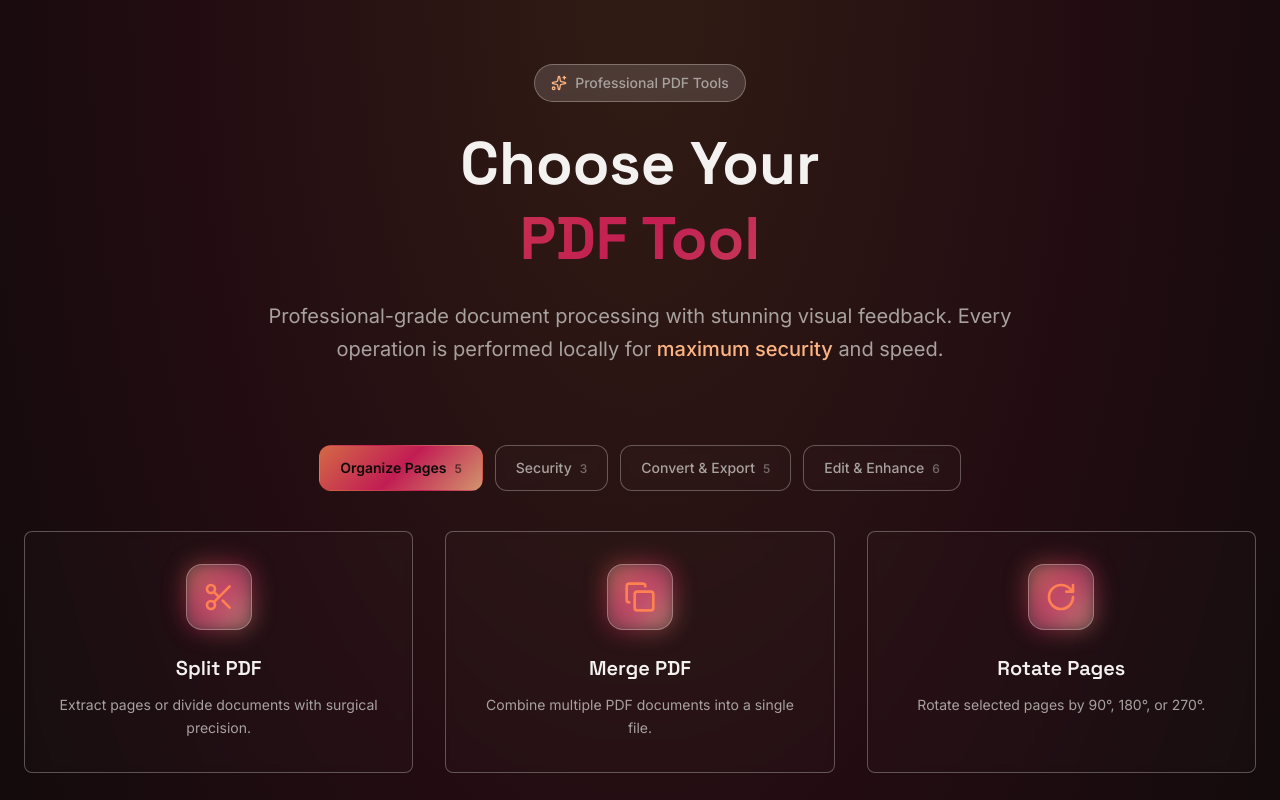
GlassDashboard (T-11 / P2-23 / F-23) › returns to the grid via Back to Tools
The image size is (1280, 800).
Click the button "Split PDF" at (219, 597), box [24,531,413,772]
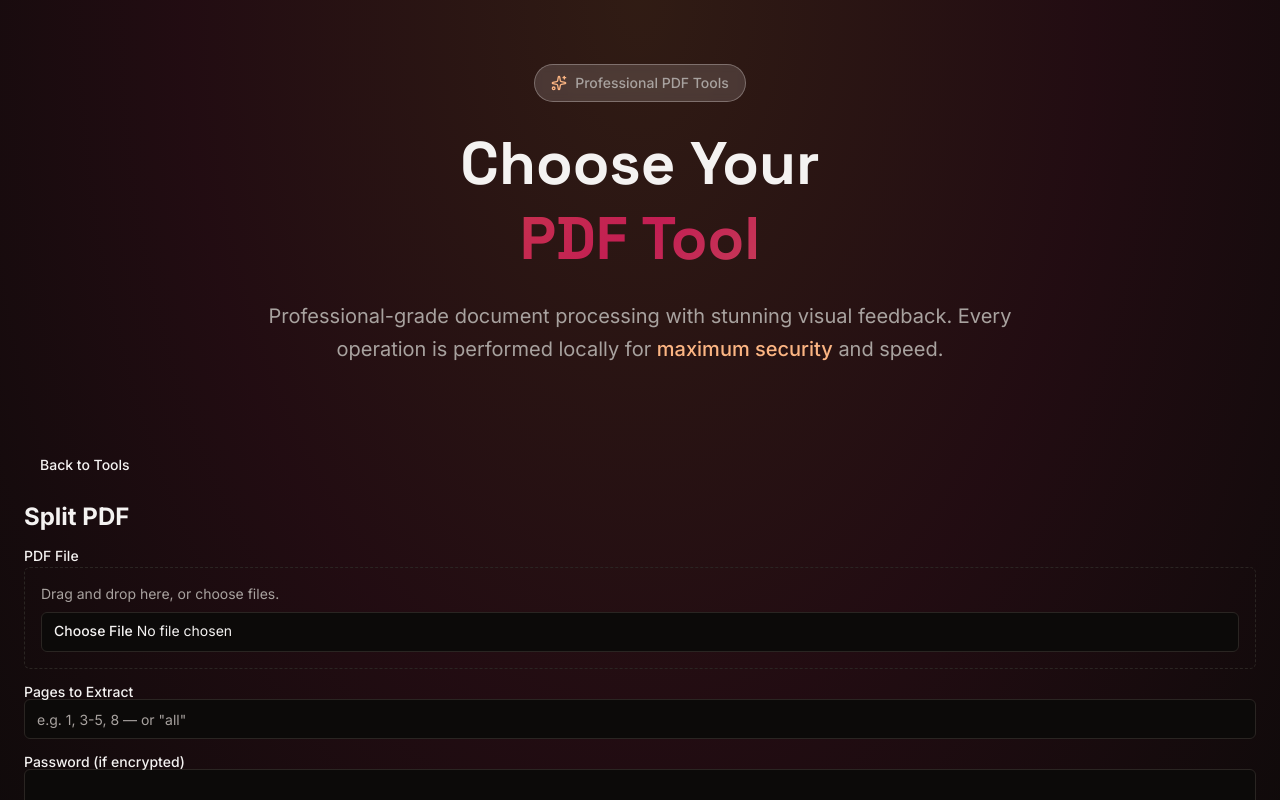
Now the button "Back to Tools" is shown
Click the button "Back to Tools" at (85, 465), box [24,445,146,485]
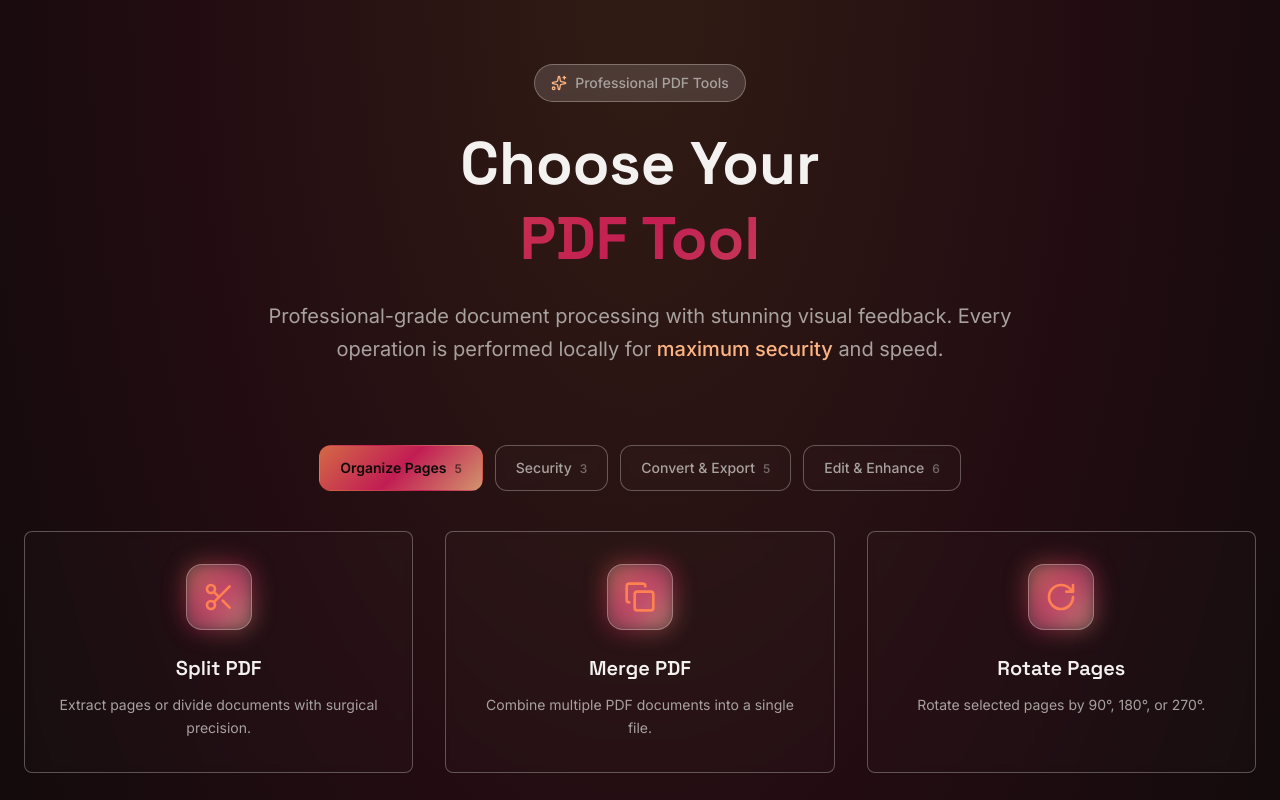
Now the button "Split PDF" is shown, box [24,531,413,772]
Now the button "Back to Tools" is gone
